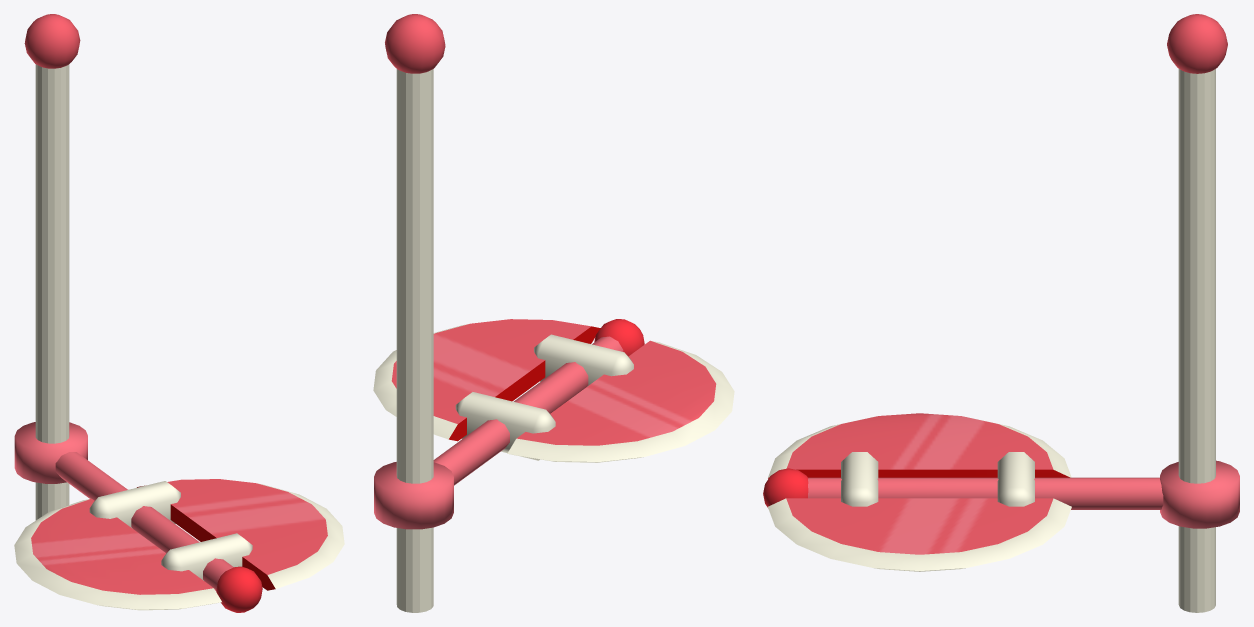
File: obstacle_4.fbx
The picture shows the model from 3 angles, left to right: view 1: azimuth 30°, elevation 25°; view 2: azimuth 150°, elevation 25°; view 3: azimuth 270°, elevation 25°; orthographic projection. The views are drawn at different scales.
Parts seen in each view (by area): view 1: obstacle_4_b, obstacle_4_a; view 2: obstacle_4_b, obstacle_4_a; view 3: obstacle_4_b, obstacle_4_a.
Part boxes in pixels (bbox=[...]): obstacle_4_b: bbox=[14, 422, 344, 612]; obstacle_4_a: bbox=[24, 14, 80, 520]; obstacle_4_b: bbox=[373, 319, 734, 529]; obstacle_4_a: bbox=[385, 14, 445, 612]; obstacle_4_b: bbox=[763, 413, 1239, 571]; obstacle_4_a: bbox=[1167, 14, 1227, 612].
Size of the model in its own units: 5.2 by 9.08 by 6.67.
